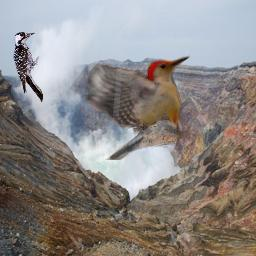Woodpecker: (69, 54, 190, 160), (13, 32, 43, 102)
